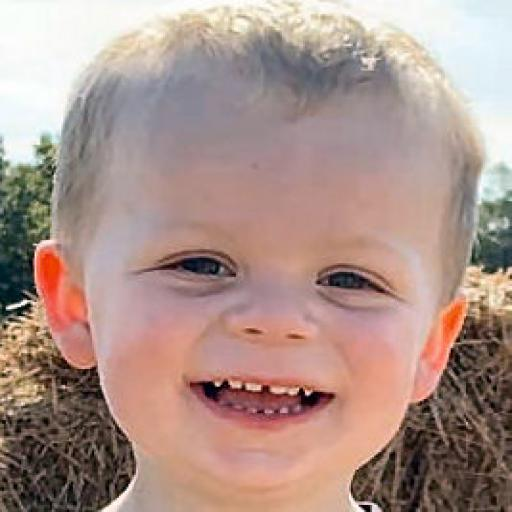Autism: (29, 13, 512, 506)
